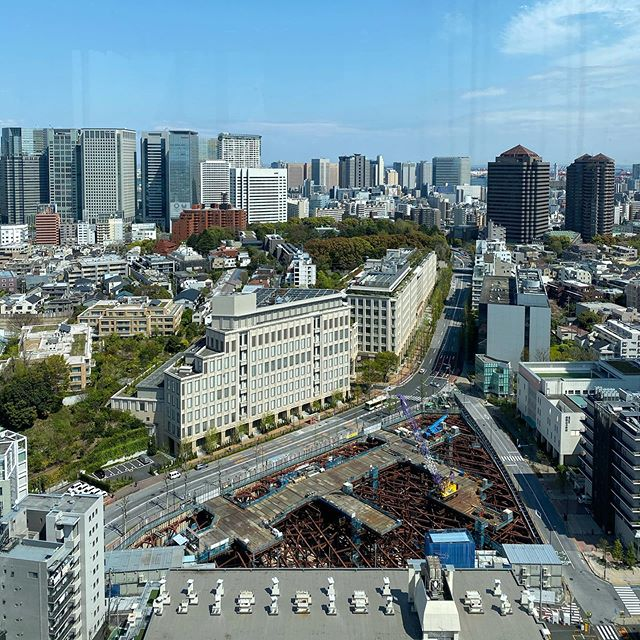building: (161, 301, 349, 453), (1, 476, 106, 640), (342, 243, 454, 365), (499, 354, 599, 469), (474, 267, 551, 386), (592, 395, 640, 578), (485, 139, 549, 245), (562, 150, 625, 256), (5, 316, 96, 386), (78, 126, 140, 214), (75, 294, 187, 341), (1, 123, 51, 224), (41, 130, 85, 221), (236, 165, 296, 230), (160, 129, 198, 231), (134, 132, 170, 219), (193, 160, 239, 218), (211, 132, 258, 168), (426, 154, 469, 192), (334, 153, 370, 196)
sky: (19, 1, 640, 132)
